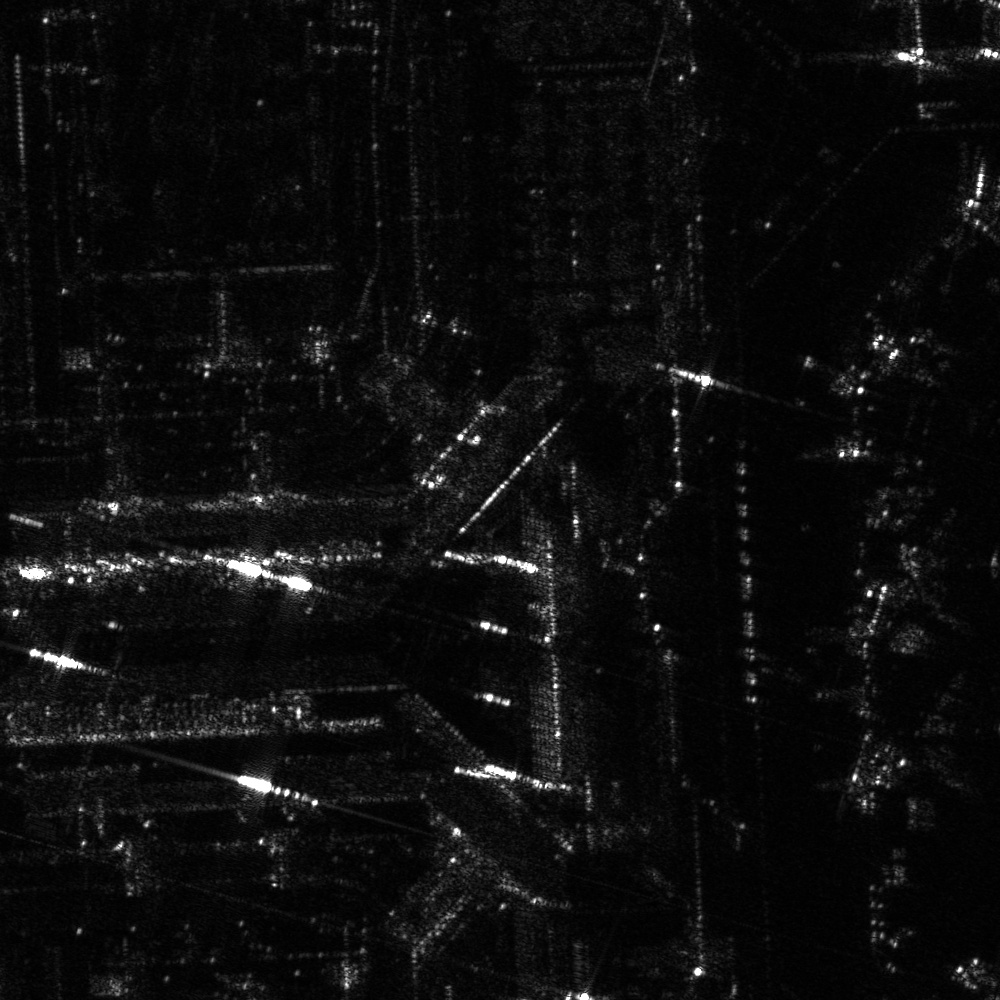A320/321: (854, 661, 999, 811), (843, 499, 999, 638)
A330: (884, 329, 999, 437)
